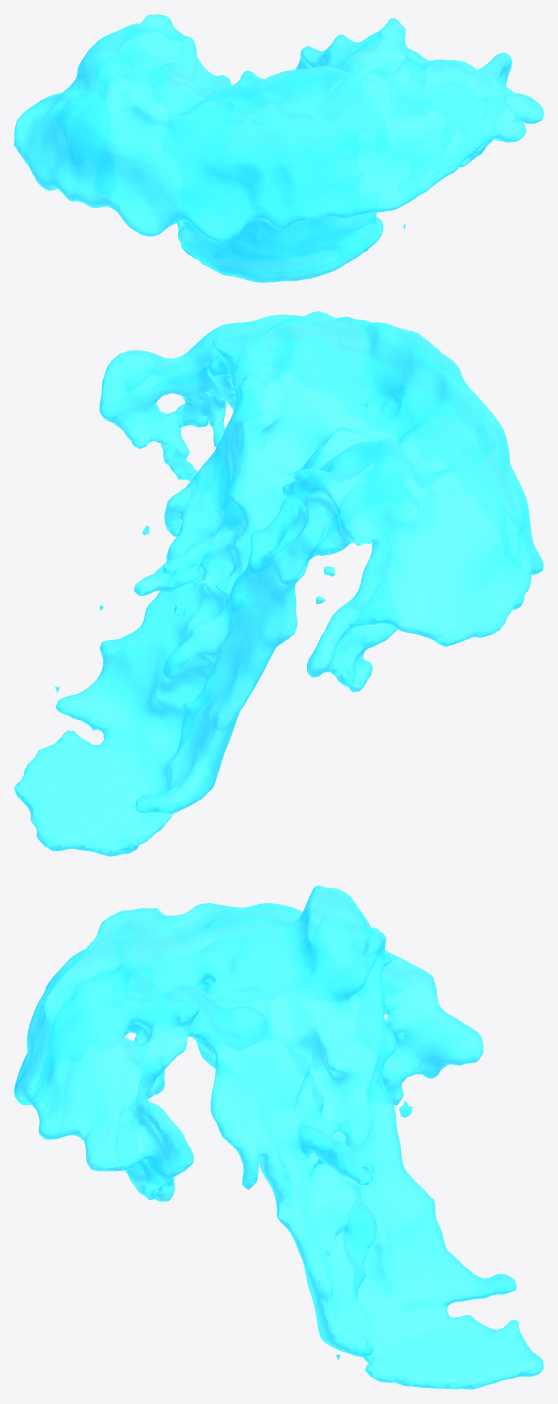
The model's file is water_splash.glb.
3 renders of one model, top to bottom at view 1: azimuth 30°, elevation 25°; view 2: azimuth 150°, elevation 25°; view 3: azimuth 270°, elevation 25°, orthographic. The views are drawn at different scales.
Visible parts, largest first — view 1: Object_2; view 2: Object_2; view 3: Object_2.
Part boxes in pixels (left/top/right/bottom): Object_2: left=14, top=14, right=543, bottom=282; Object_2: left=14, top=311, right=543, bottom=856; Object_2: left=14, top=885, right=543, bottom=1389.
Size of the model in its own units: 3.1 by 2.44 by 3.04.
1 material, 1 textured.
